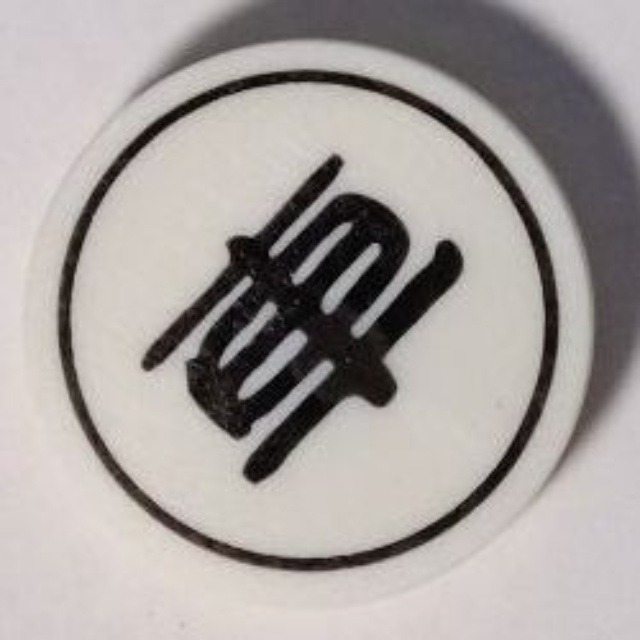black_xe: (20, 35, 613, 581)
